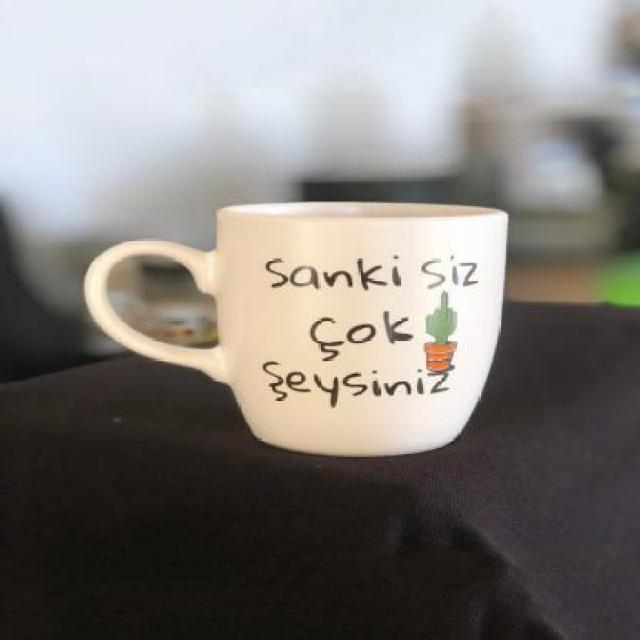taza: (81, 202, 510, 459)
